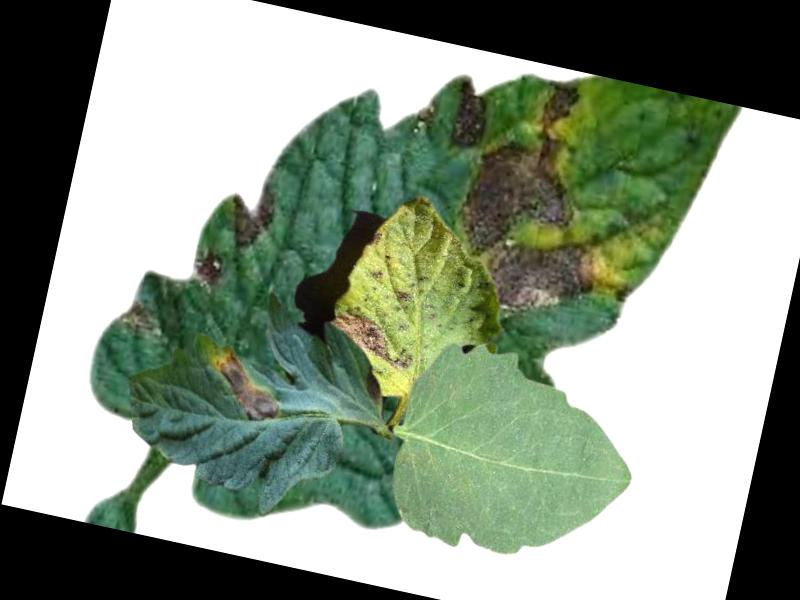Early_blight: (442, 61, 641, 327), (324, 304, 425, 371), (204, 347, 291, 424), (223, 176, 281, 256), (445, 87, 493, 155), (189, 252, 225, 287), (400, 284, 417, 304)
healthy: (377, 331, 651, 581)
